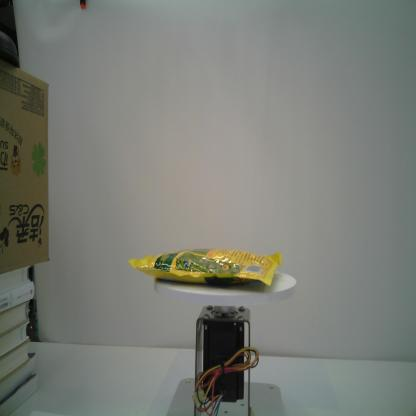Seasoner: (127, 247, 284, 288)
